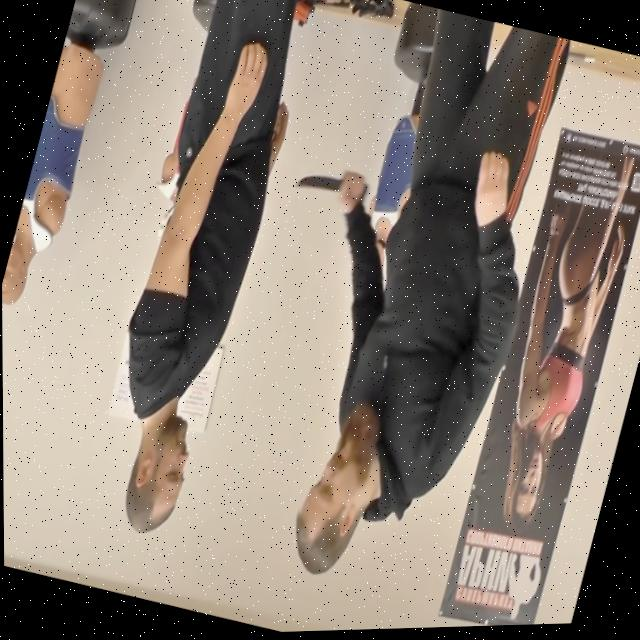knife: (286, 148, 347, 212)
